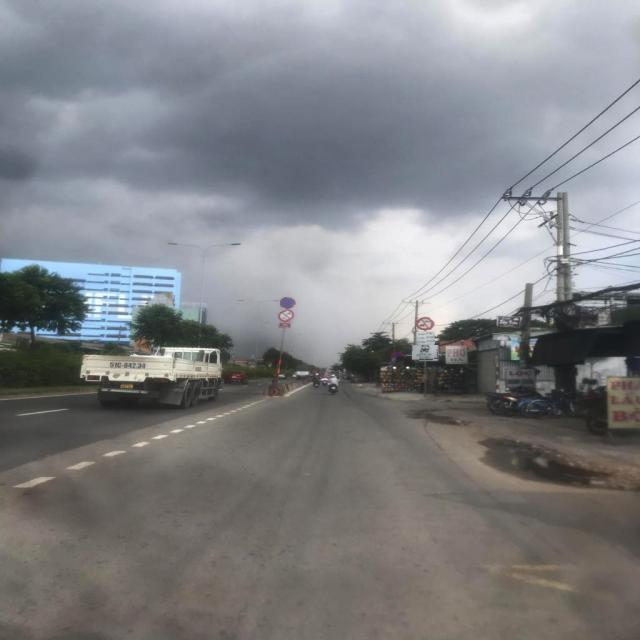107-cam-oto-khach-va-oto-tai: (416, 317, 434, 330)
